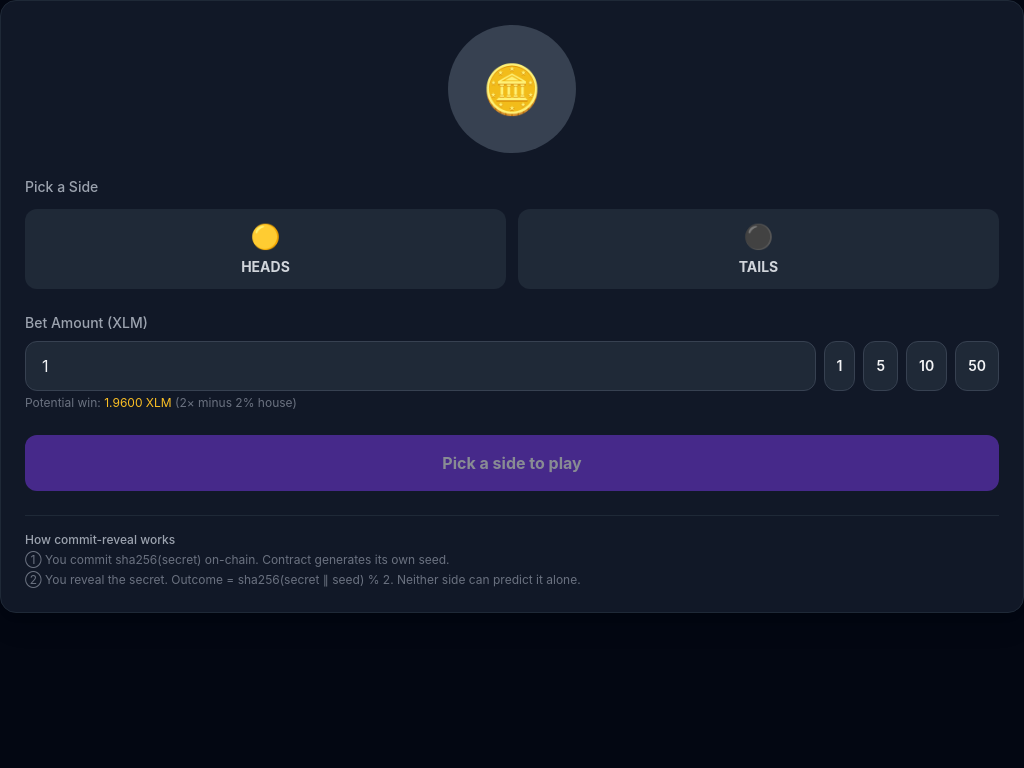
Scenario: CoinFlipGame › HEADS button click selects heads
The image size is (1024, 768).
Click the button "🟡 HEADS".
click(266, 249)  # box [25, 209, 506, 289]
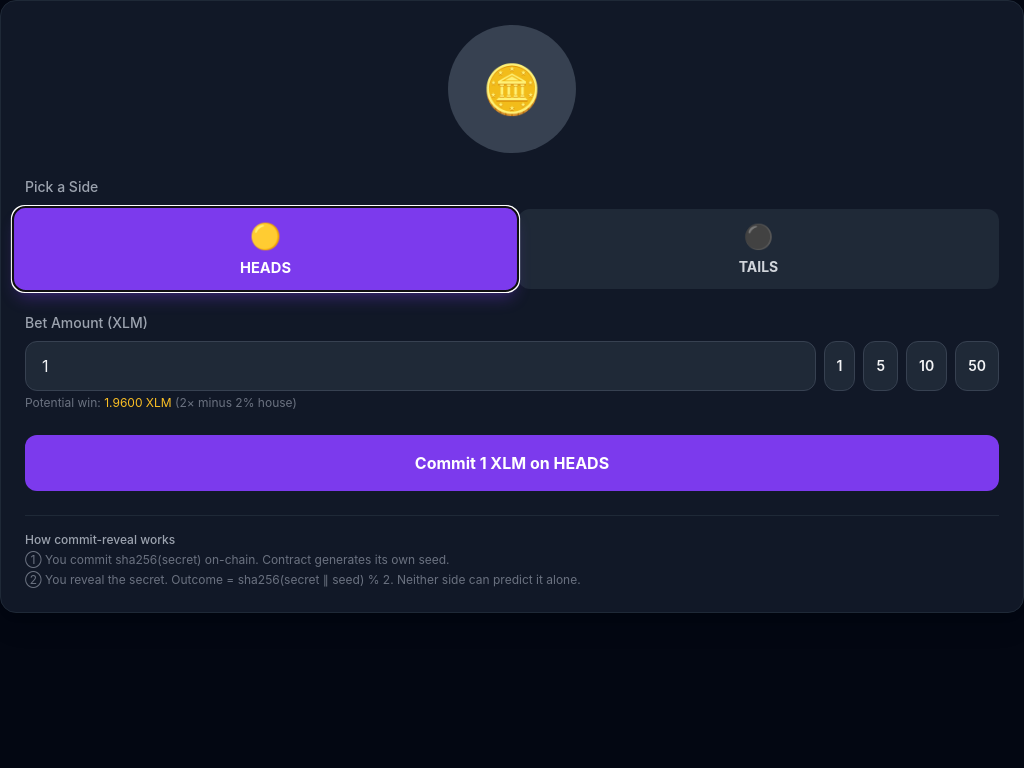
Expected: the button "Commit 1 XLM on HEADS" is shown, [25, 435, 999, 491]
